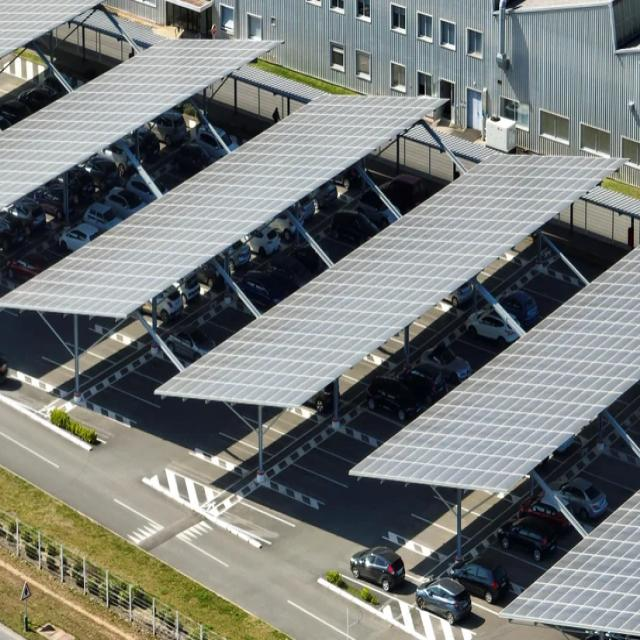libre: (72, 299, 255, 441), (221, 412, 402, 549), (164, 397, 314, 510), (380, 482, 510, 577), (24, 313, 151, 401), (578, 426, 639, 495)
ocupado: (0, 95, 213, 303), (143, 163, 402, 326), (54, 111, 255, 256), (345, 539, 528, 638), (492, 472, 614, 567), (360, 331, 477, 424), (462, 281, 552, 351)
